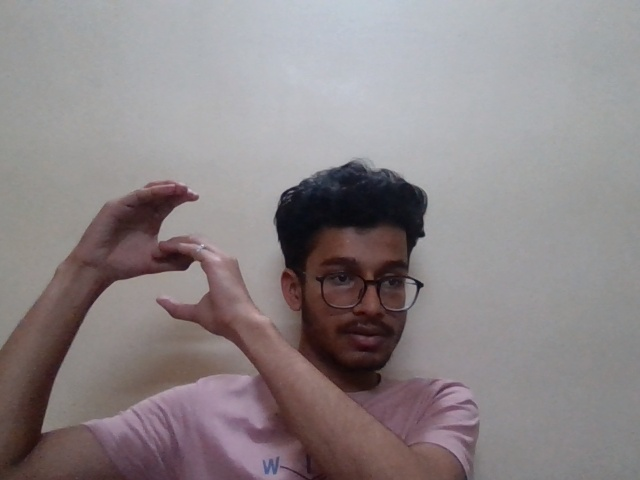S: (73, 170, 263, 349)
